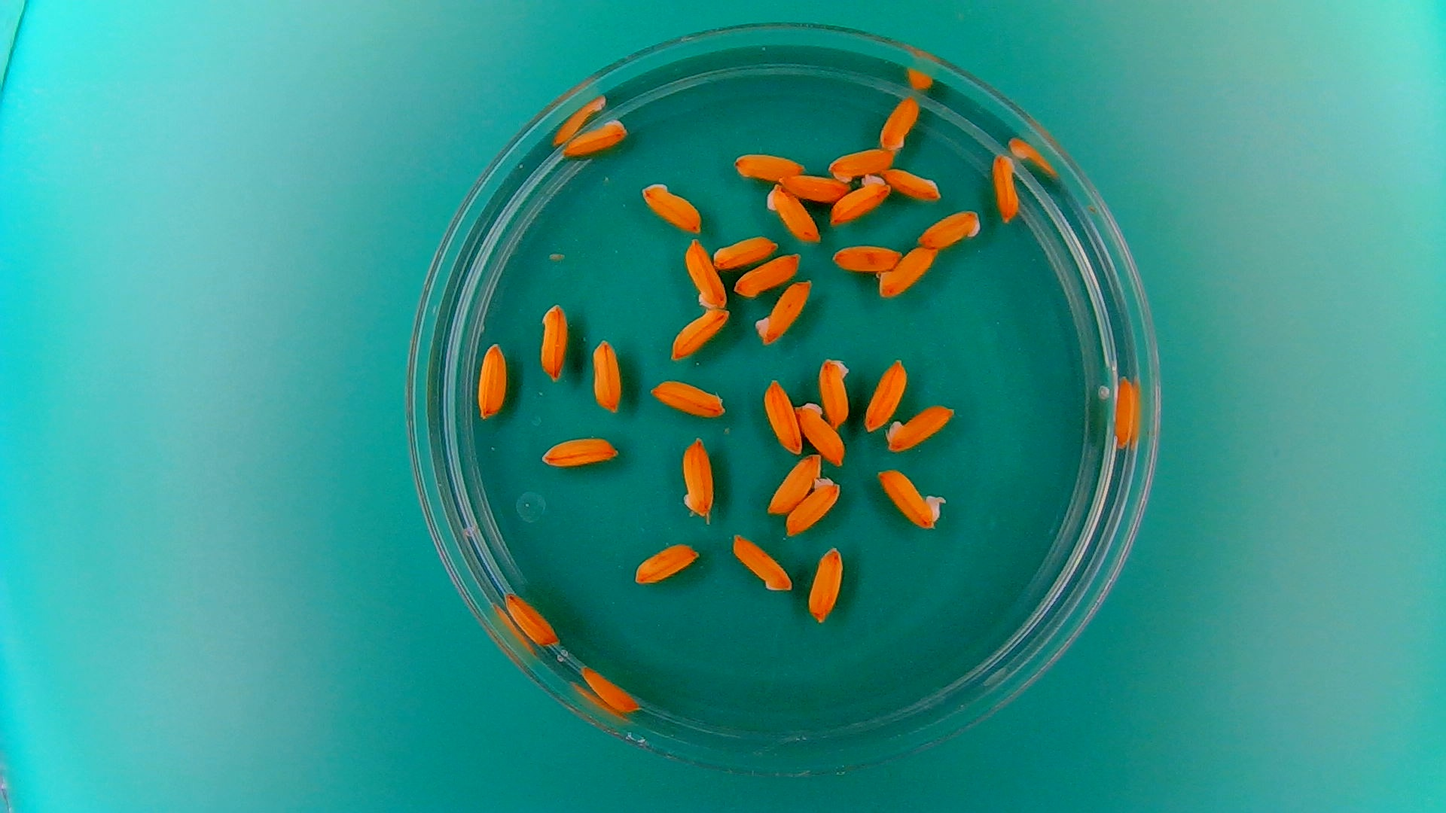no: (727, 529, 794, 595), (752, 276, 813, 347), (883, 398, 959, 452), (763, 449, 824, 516), (784, 472, 844, 538), (793, 397, 847, 467), (862, 353, 909, 433), (804, 540, 847, 626), (638, 179, 704, 235), (629, 538, 702, 588), (876, 243, 940, 300), (667, 306, 733, 361), (732, 249, 804, 299), (646, 376, 729, 419), (761, 373, 804, 455), (827, 171, 892, 225), (681, 236, 728, 310), (501, 588, 559, 647), (764, 181, 820, 242), (577, 662, 642, 714), (678, 434, 716, 521), (561, 115, 631, 159), (538, 433, 621, 470), (474, 339, 510, 422), (915, 207, 984, 249), (589, 335, 624, 415), (816, 353, 853, 428), (876, 93, 922, 153), (825, 145, 897, 183), (710, 231, 780, 269), (538, 300, 570, 382), (731, 148, 807, 182), (990, 149, 1022, 225), (1112, 371, 1139, 460), (829, 242, 903, 274), (779, 172, 850, 203), (882, 166, 943, 202)
yes: (873, 462, 948, 531)
